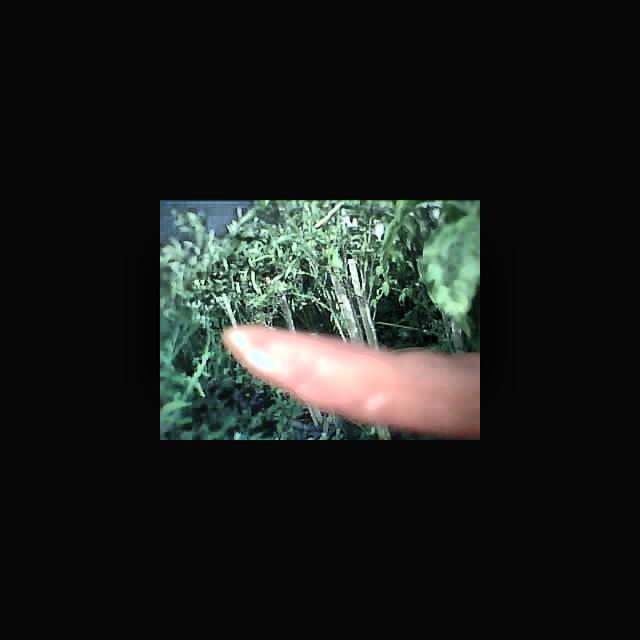Cabai: (230, 325, 480, 440)
